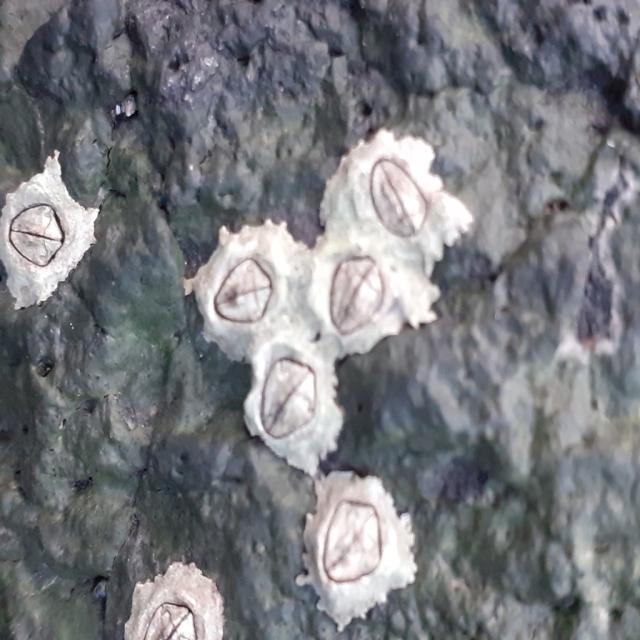barnacles: (330, 130, 474, 268), (299, 477, 421, 636), (0, 161, 96, 314), (187, 221, 305, 343), (310, 242, 432, 356), (250, 344, 354, 475), (123, 554, 230, 640)
